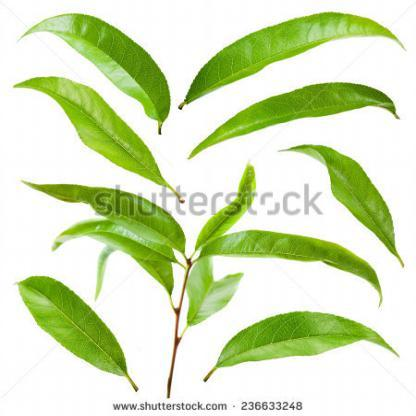Peach leaf: (178, 10, 404, 113), (11, 73, 179, 198), (13, 10, 171, 134), (181, 80, 402, 166), (188, 310, 402, 387), (282, 142, 406, 270), (15, 276, 144, 394), (19, 172, 184, 258), (197, 228, 386, 296), (190, 156, 272, 263)
